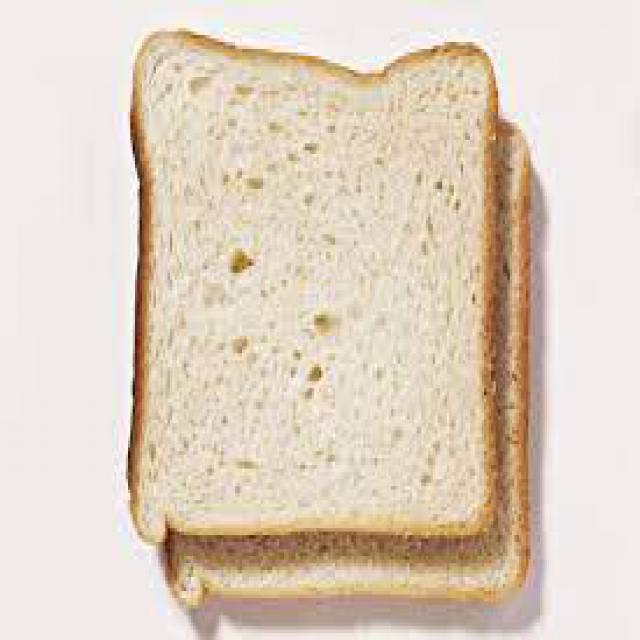Bread: (130, 23, 536, 604)
